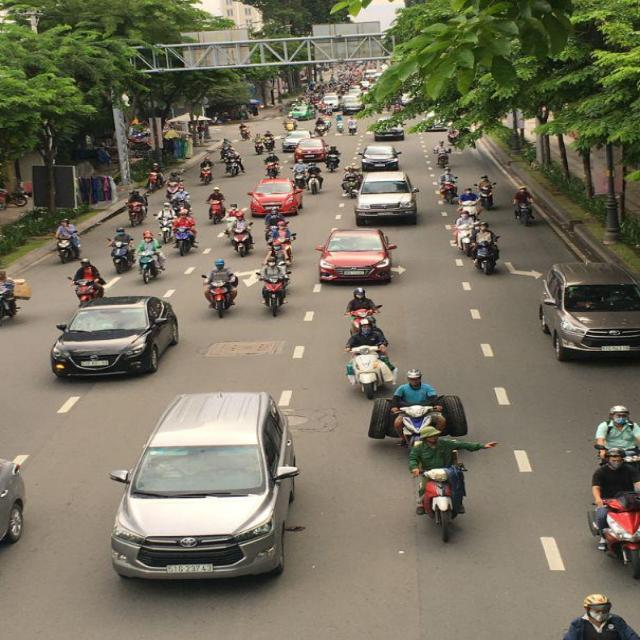car: (111, 392, 304, 581), (52, 294, 182, 379), (539, 260, 639, 364), (317, 228, 401, 286), (356, 174, 422, 227), (248, 177, 304, 218), (360, 146, 402, 172), (370, 124, 406, 142)
motorcycle: (414, 442, 474, 546), (588, 494, 640, 584), (393, 394, 452, 452), (343, 342, 399, 400), (204, 266, 240, 318), (259, 264, 291, 317), (70, 261, 106, 304), (173, 210, 198, 256), (57, 225, 83, 263), (473, 239, 501, 274), (230, 226, 252, 256), (136, 254, 158, 284), (114, 245, 134, 274), (478, 179, 495, 212), (128, 196, 147, 225)
